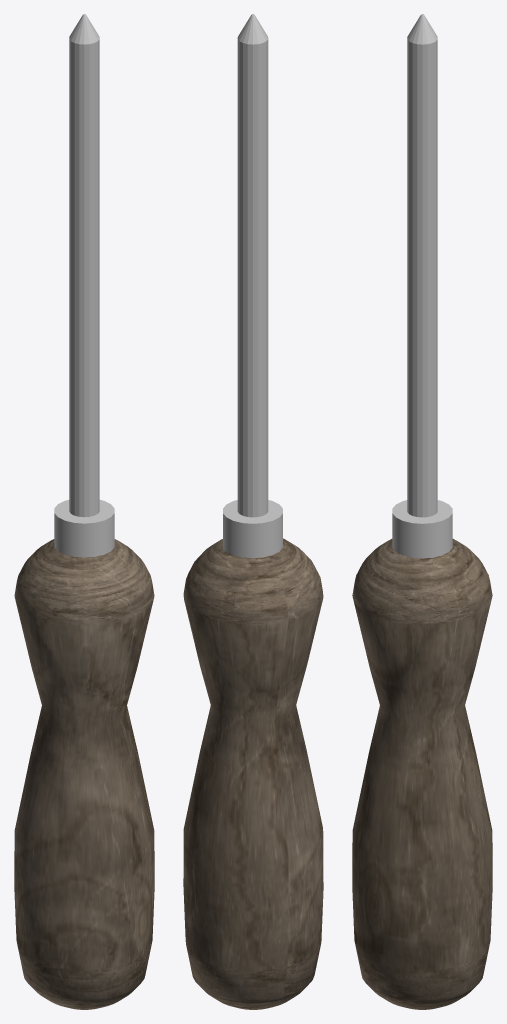
File: Pique_a_glace.FBX
3 views of the same model, side by side, from view 1: azimuth 90°, elevation 25°; view 2: azimuth 210°, elevation 25°; view 3: azimuth 270°, elevation 25° (orthographic).
Visible parts, largest first — view 1: Sphère001; view 2: Sphère001; view 3: Sphère001.
Boxes of the visible parts, bbox=[...] form: Sphère001: bbox=[14, 14, 154, 1009]; Sphère001: bbox=[183, 14, 323, 1009]; Sphère001: bbox=[352, 14, 492, 1009].
Bounding box in the file's own units: 7.85 × 7.85 × 61.03.
